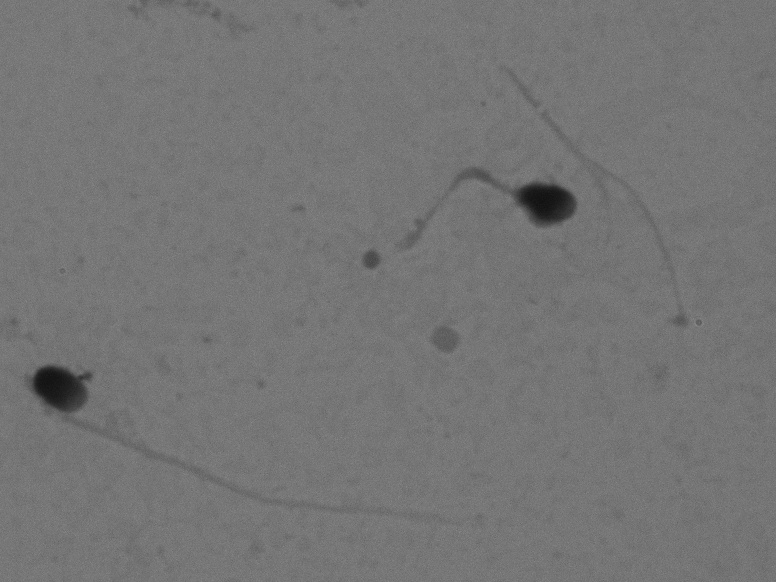Abnormal: (17, 331, 530, 566), (364, 118, 596, 293)
